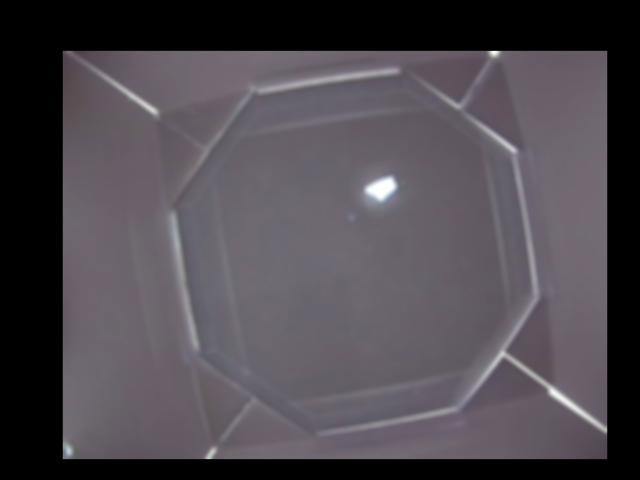China: (365, 175, 397, 203)
